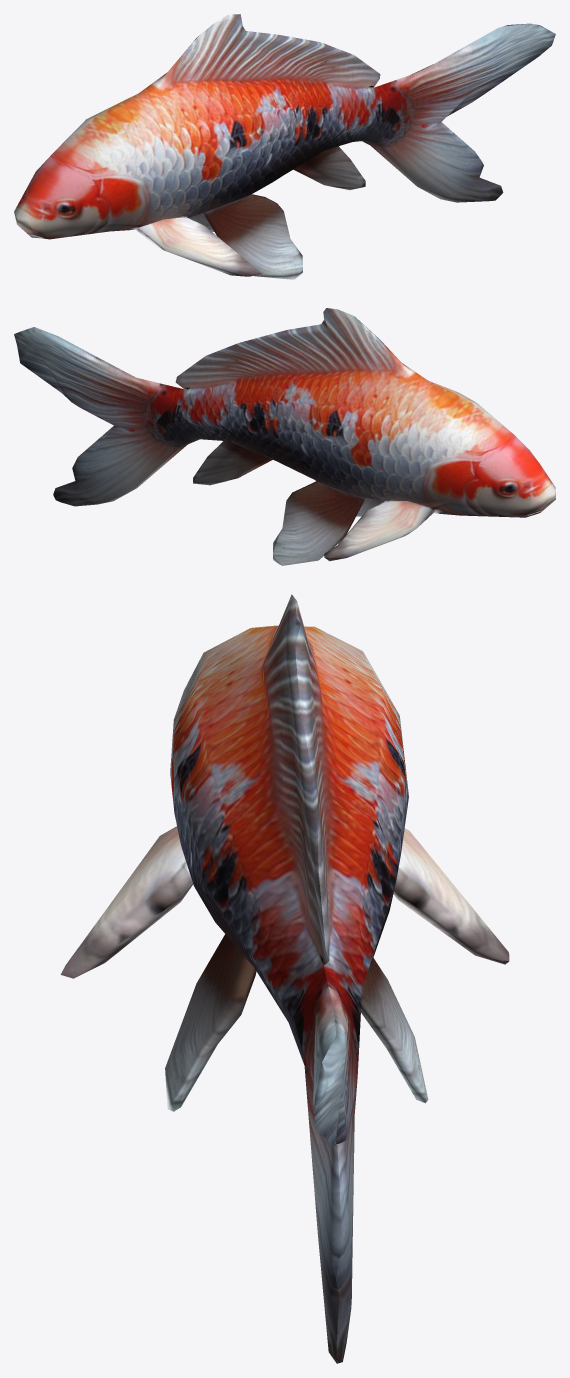
3 views of the same model, one above another, from view 1: azimuth 30°, elevation 25°; view 2: azimuth 150°, elevation 25°; view 3: azimuth 270°, elevation 25° (orthographic). The views are drawn at different scales.
Parts seen in each view (by area): view 1: koifish_0; view 2: koifish_0; view 3: koifish_0.
Boxes of the visible parts, x1,y1,x2,y2 form: koifish_0: (14,14,555,279); koifish_0: (14,308,555,565); koifish_0: (60,594,509,1363).
Bounding box in the file's own units: 6.39 × 2.89 × 2.34.
Materials: 1 (1 with a texture image).
